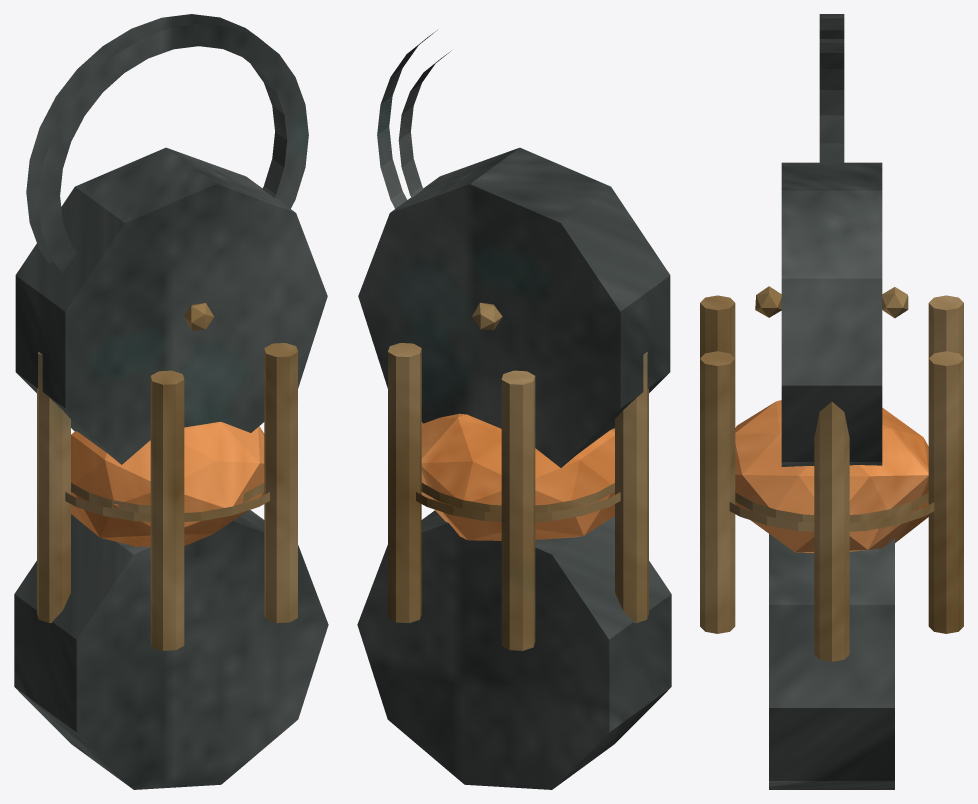
Rendered from 0913_lantern_13.glb.
3 renders of one model, left to right at view 1: azimuth 30°, elevation 25°; view 2: azimuth 150°, elevation 25°; view 3: azimuth 270°, elevation 25°, orthographic.
Visible parts, largest first — view 1: iron, brass, amber; view 2: iron, brass, amber; view 3: iron, brass, amber.
Boxes of the visible parts, <box> form: iron: <box>14,14,328,789</box>; brass: <box>37,303,297,650</box>; amber: <box>71,422,264,546</box>; iron: <box>357,30,671,789</box>; brass: <box>388,302,648,650</box>; amber: <box>421,413,614,540</box>; iron: <box>769,14,894,789</box>; brass: <box>700,286,963,661</box>; amber: <box>735,400,928,552</box>.
Size of the model in its own units: 0.5 by 1.32 by 0.4197.
Materials: 3 (3 with a texture image).
